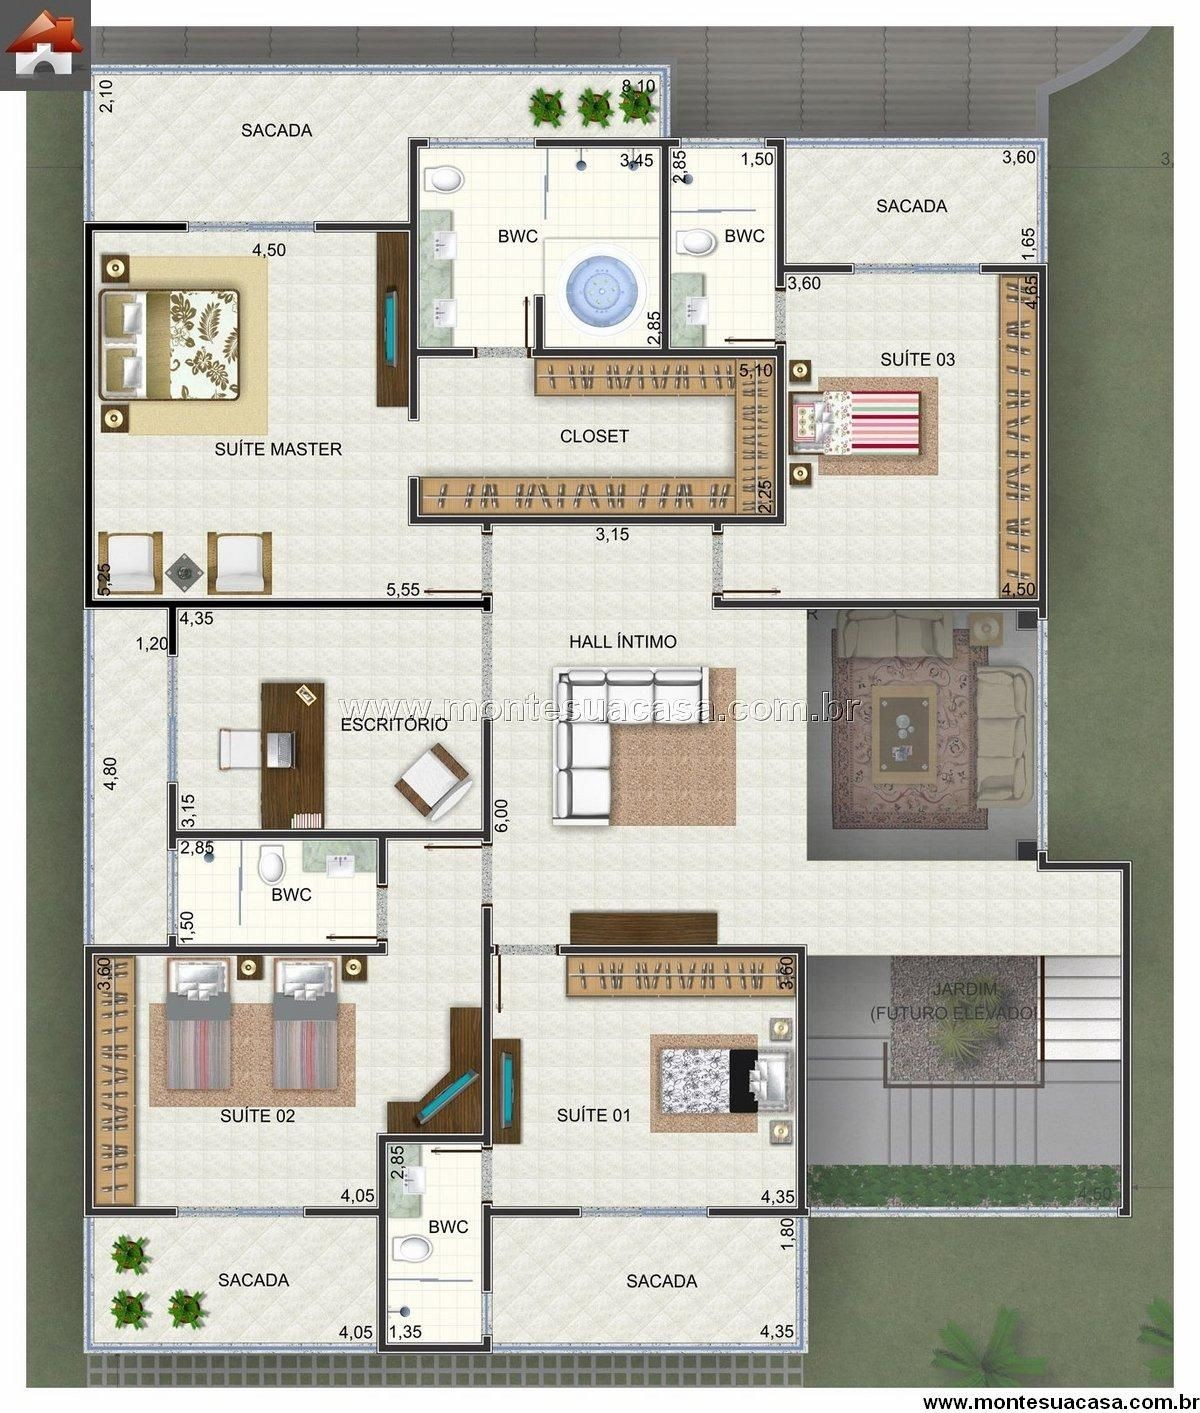wall: (87, 600, 488, 608), (86, 224, 93, 606), (170, 831, 489, 838), (85, 946, 93, 1217), (410, 517, 785, 523), (1040, 264, 1046, 615), (86, 948, 387, 954), (1124, 862, 1129, 1215), (714, 601, 1045, 606), (662, 139, 669, 354), (535, 349, 783, 355), (560, 946, 801, 952), (411, 138, 415, 415), (379, 1134, 385, 1345), (799, 948, 804, 1209), (776, 140, 785, 285), (777, 348, 783, 523), (536, 138, 679, 145), (86, 223, 186, 231), (485, 719, 490, 842), (379, 1345, 489, 1351), (381, 1136, 488, 1142), (315, 224, 414, 230), (710, 1209, 807, 1215), (486, 1208, 579, 1214), (1040, 862, 1129, 868), (485, 1206, 490, 1288), (981, 264, 1044, 271), (779, 265, 852, 271), (87, 1209, 175, 1214), (169, 783, 175, 848), (411, 349, 474, 355), (410, 479, 418, 523), (305, 1209, 379, 1214), (537, 296, 543, 355), (379, 831, 385, 883), (170, 599, 175, 654), (1039, 852, 1045, 868)
